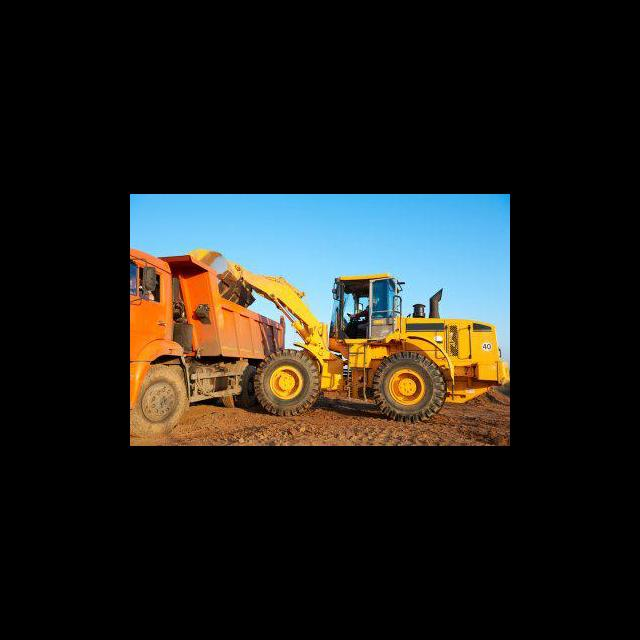NO-Safety Vest: (364, 304, 370, 321)
Person: (345, 298, 378, 339)
dump truck: (130, 245, 284, 440)
wheel loader: (188, 245, 509, 427)
